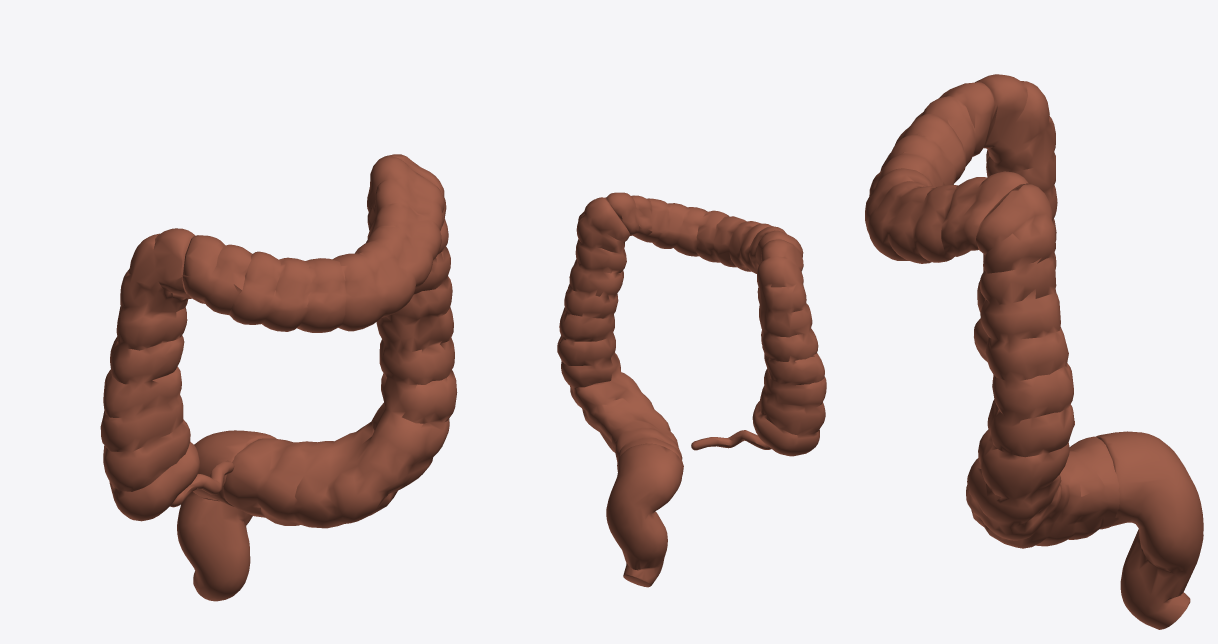
The model's file is yogon.glb.
The picture shows the model from 3 angles, left to right: view 1: azimuth 30°, elevation 25°; view 2: azimuth 150°, elevation 25°; view 3: azimuth 270°, elevation 25°; orthographic projection. The views are drawn at different scales.
Parts seen in each view (by area): view 1: yogon; view 2: yogon; view 3: yogon.
Part boxes in pixels (<box>): yogon: <box>100,154,457,601</box>; yogon: <box>557,192,826,587</box>; yogon: <box>865,74,1203,629</box>.
Size of the model in its own units: 0.2441 by 0.4258 by 0.191.
